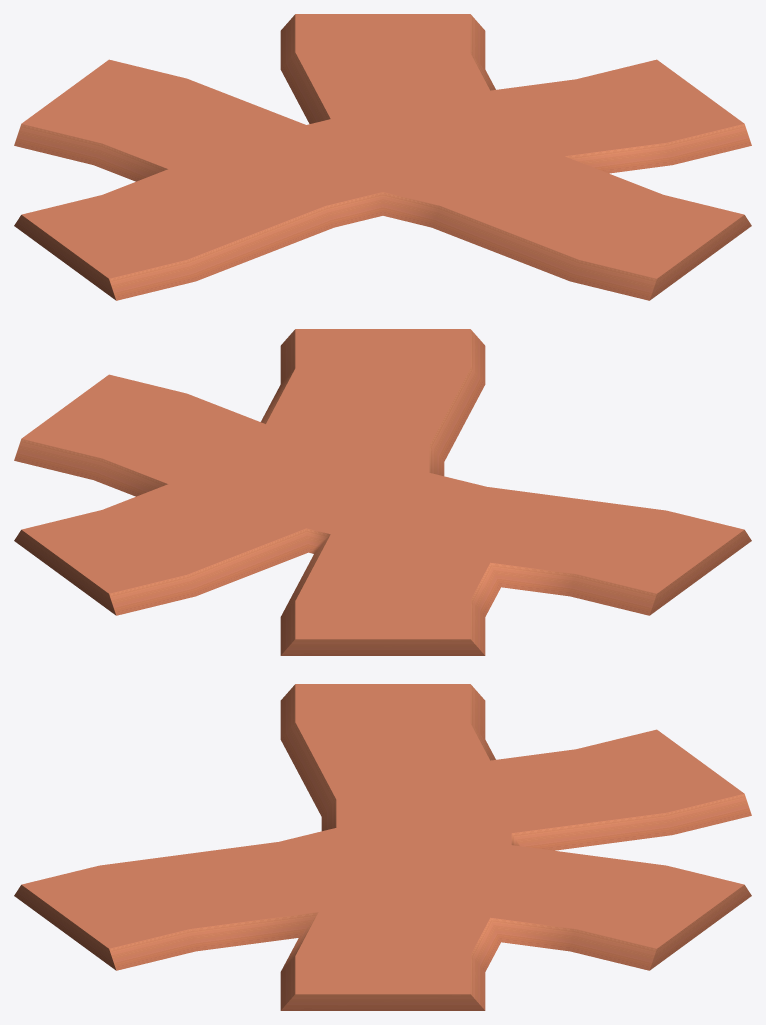
Rendered from path-intersection-g.glb.
3 renders of one model, top to bottom at view 1: azimuth 30°, elevation 25°; view 2: azimuth 150°, elevation 25°; view 3: azimuth 270°, elevation 25°, orthographic.
Parts seen in each view (by area): view 1: path-intersectionG; view 2: path-intersectionG; view 3: path-intersectionG.
Boxes of the visible parts, x1,y1,x2,y2 form: path-intersectionG: (14,14,751,300); path-intersectionG: (14,329,751,655); path-intersectionG: (14,684,751,1010).
Size of the model in its own units: 1 by 0.025 by 1.01.
Materials: 1 (1 with a texture image).
